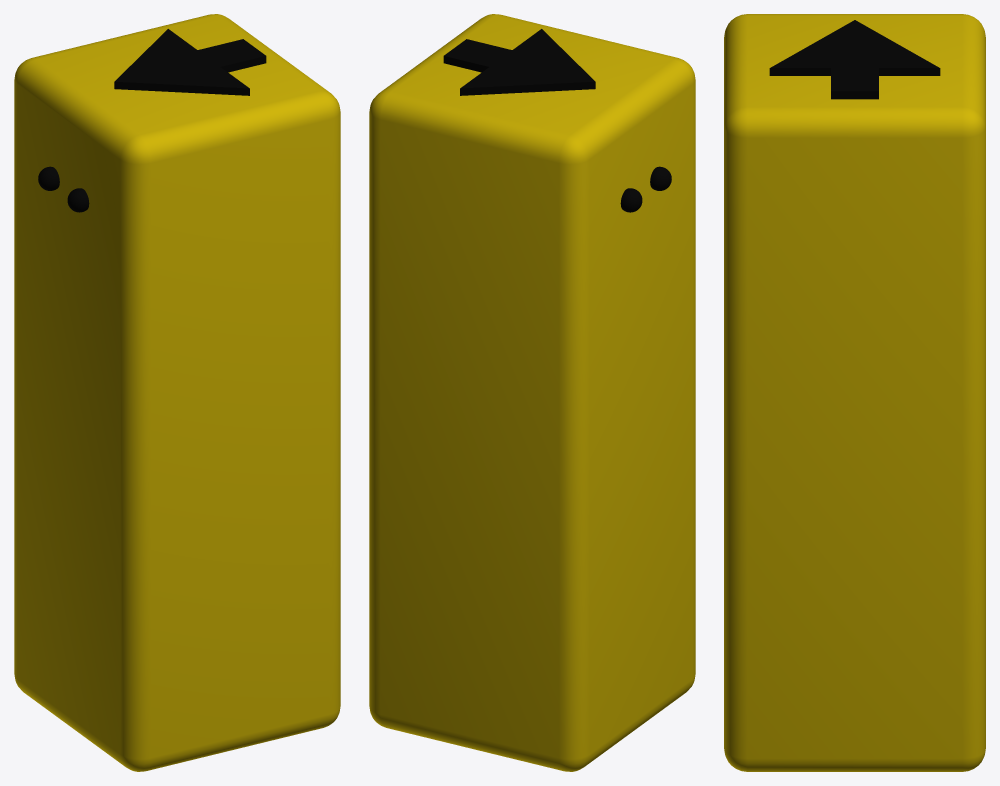
3 views of the same model, side by side, from view 1: azimuth 30°, elevation 25°; view 2: azimuth 150°, elevation 25°; view 3: azimuth 270°, elevation 25° (orthographic). The views are drawn at different scales.
Visible parts, largest first — view 1: Cube.018_Cube.002_Material.003, Cube.018_Cube.002_SVGMat; view 2: Cube.018_Cube.002_Material.003, Cube.018_Cube.002_SVGMat; view 3: Cube.018_Cube.002_Material.003, Cube.018_Cube.002_SVGMat.
Part boxes in pixels (box(x1,y1,x2,y2)): Cube.018_Cube.002_Material.003: box(14, 14, 340, 771); Cube.018_Cube.002_SVGMat: box(38, 29, 266, 212); Cube.018_Cube.002_Material.003: box(369, 14, 695, 771); Cube.018_Cube.002_SVGMat: box(443, 29, 671, 212); Cube.018_Cube.002_Material.003: box(724, 14, 985, 771); Cube.018_Cube.002_SVGMat: box(769, 20, 940, 99).
Bounding box in the file's own units: 0.1904 × 0.5061 × 0.1785.
